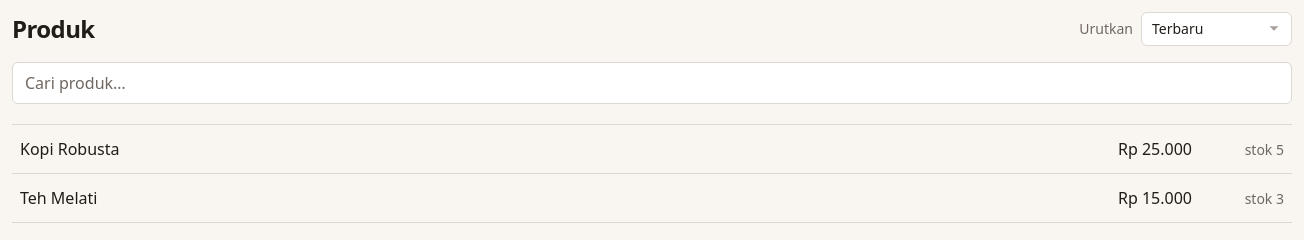
it: ProductListView › filters products via computed search
The width and height of the screenshot is (1304, 240).
computed `filtered` re-evaluate saat ref `search` berubah
Type "kopi" into the search field with test id "search". click: (652, 83)
box: [12,62,1292,104]
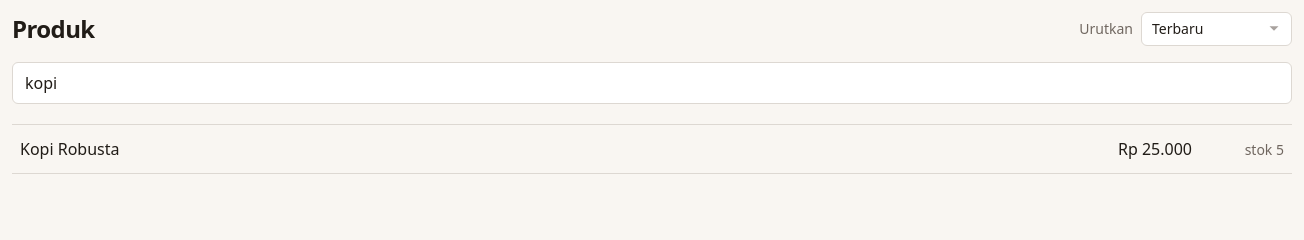
expect the text "Kopi Robusta" is shown: met, box [20,138,120,160]
expect the text "Teh Melati" is gone: met
